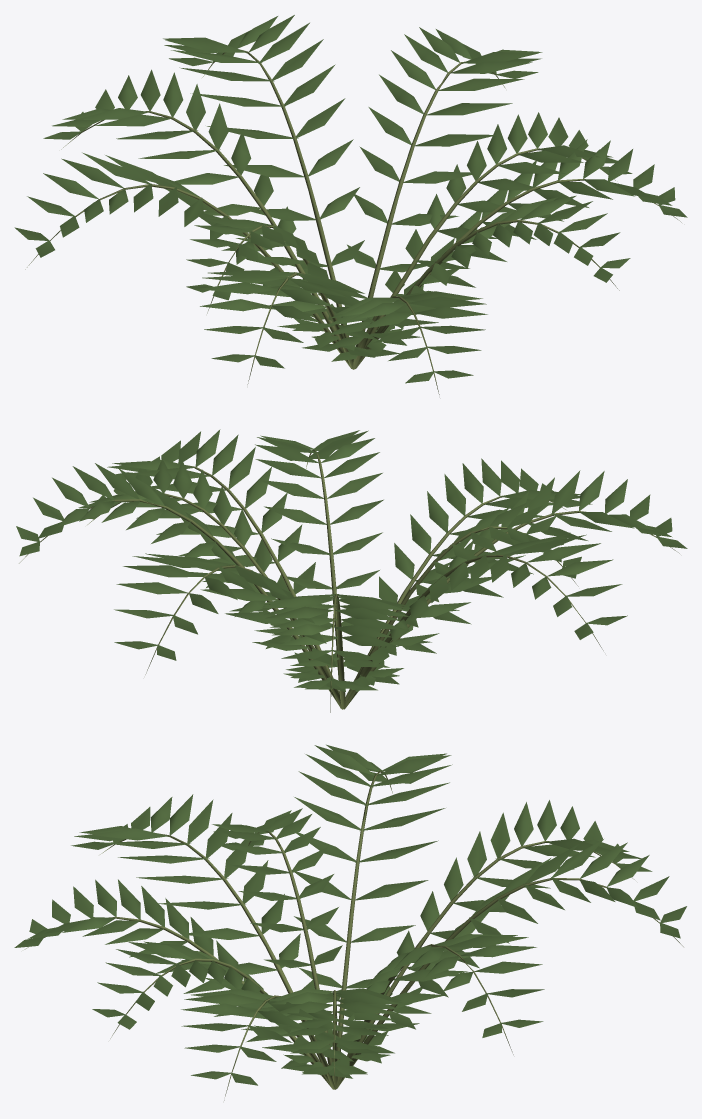
File: fern.glb
3 renders of one model, top to bottom at view 1: azimuth 30°, elevation 25°; view 2: azimuth 150°, elevation 25°; view 3: azimuth 270°, elevation 25°, orthographic. The views are drawn at different scales.
Parts seen in each view (by area): view 1: Foliage, FernStems; view 2: Foliage, FernStems; view 3: Foliage, FernStems.
Boxes of the visible parts, left/top/right/bottom form: Foliage: left=14, top=15, right=687, bottom=383; FernStems: left=25, top=49, right=681, bottom=394; Foliage: left=16, top=429, right=687, bottom=692; FernStems: left=19, top=450, right=679, bottom=712; Foliage: left=14, top=744, right=686, bottom=1085; FernStems: left=24, top=771, right=683, bottom=1100.
Bounding box in the file's own units: 1.81 × 0.6874 × 1.83.
